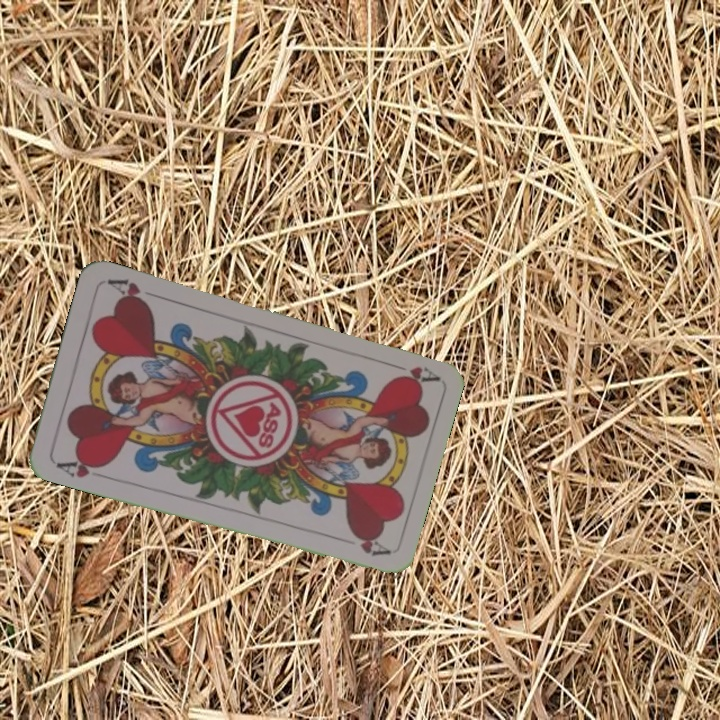HA: (381, 357, 440, 387), (51, 453, 110, 481)
